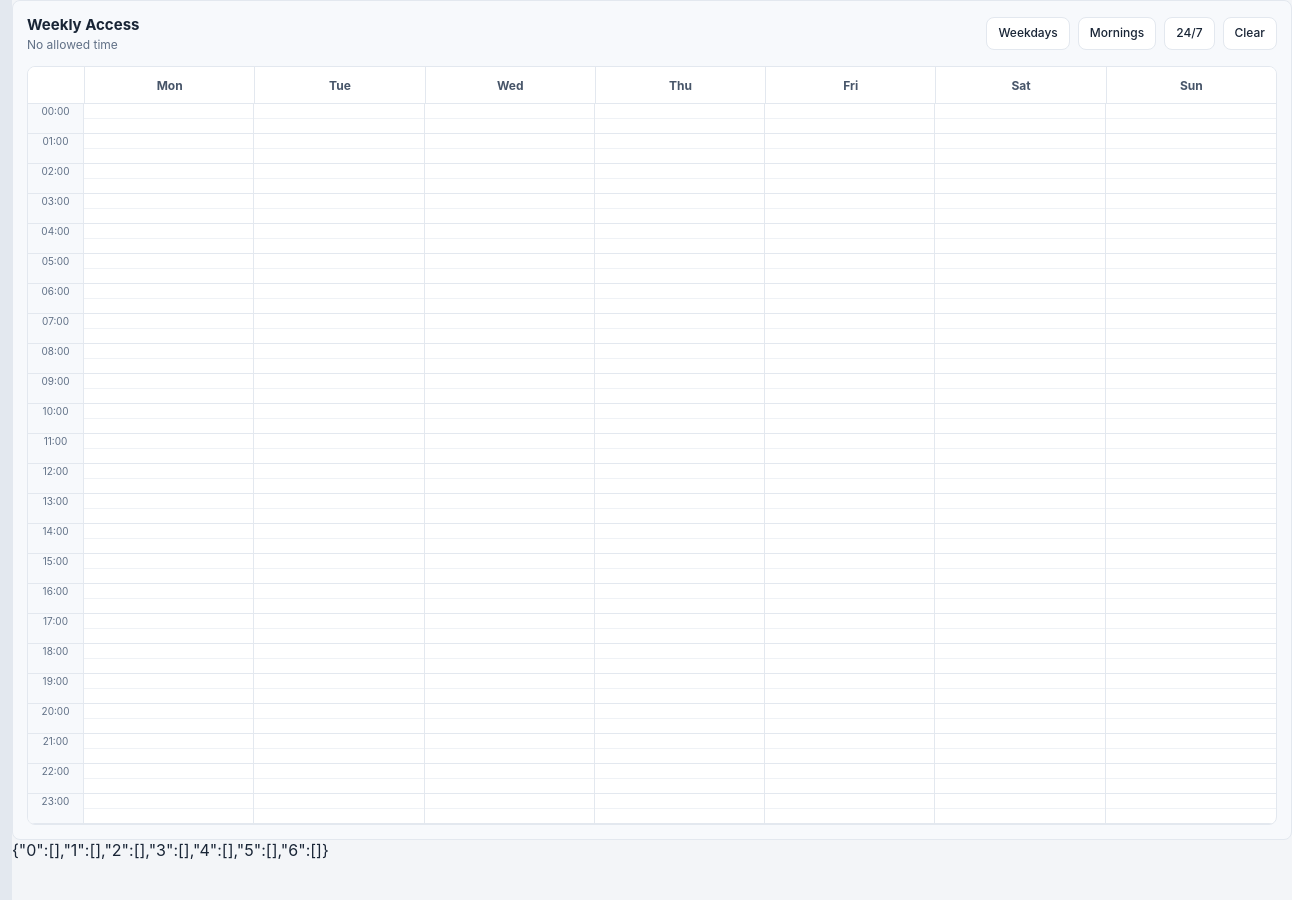
Test case: edits a real weekly selection through presets without changing other form ownership
What coordinates should you click on to do the following:
click the button "24/7"
I would click on:
 (1189, 34)
Its box is [1164,17,1215,50].
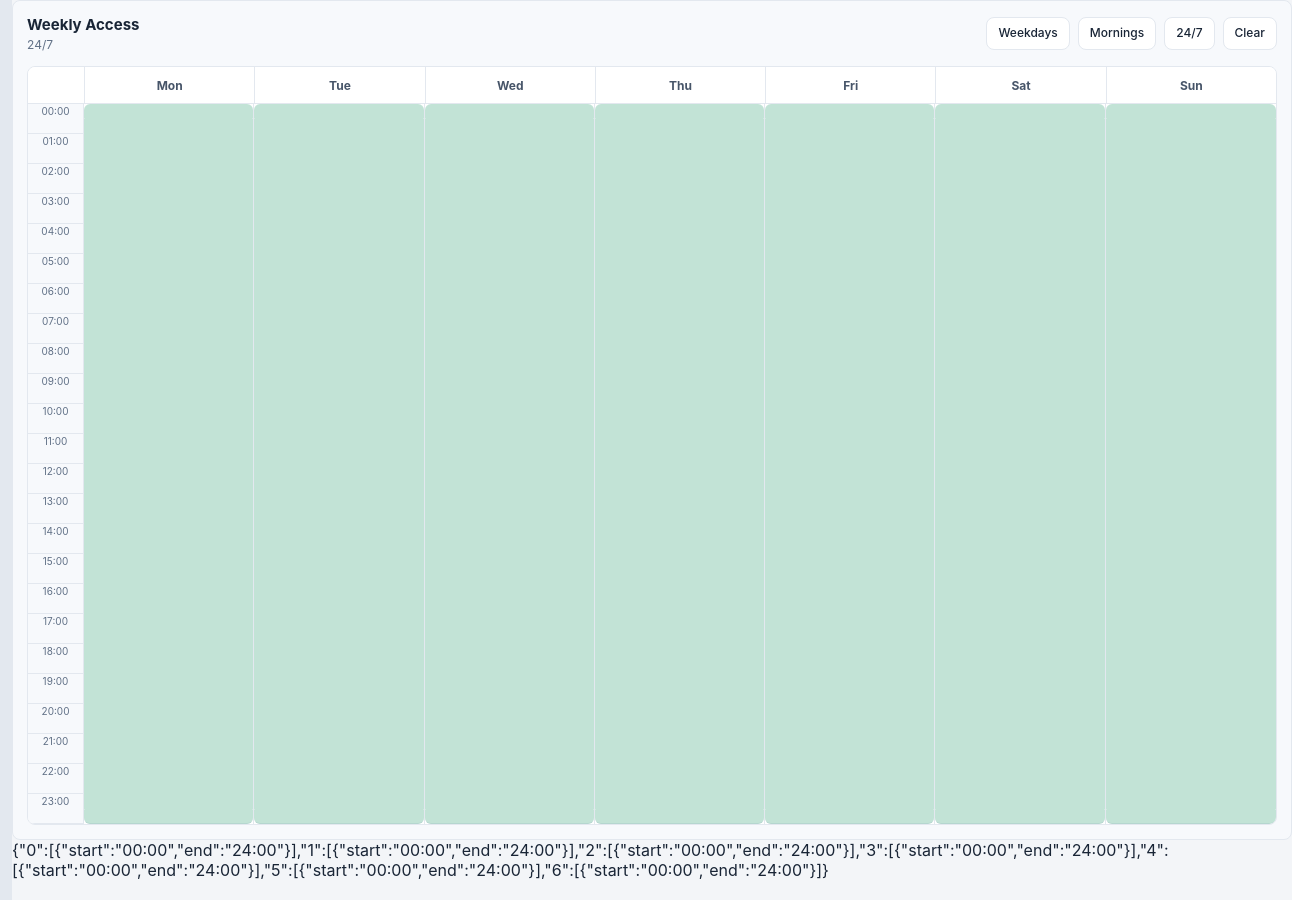
Check: the button named "Sunday 23:30-24:00 allowed" is shown, box [1106,809,1276,824]
What coordinates should you click on to do the following:
click the button "Clear"
I would click on:
 (1250, 34)
Its box is [1222,17,1277,50].
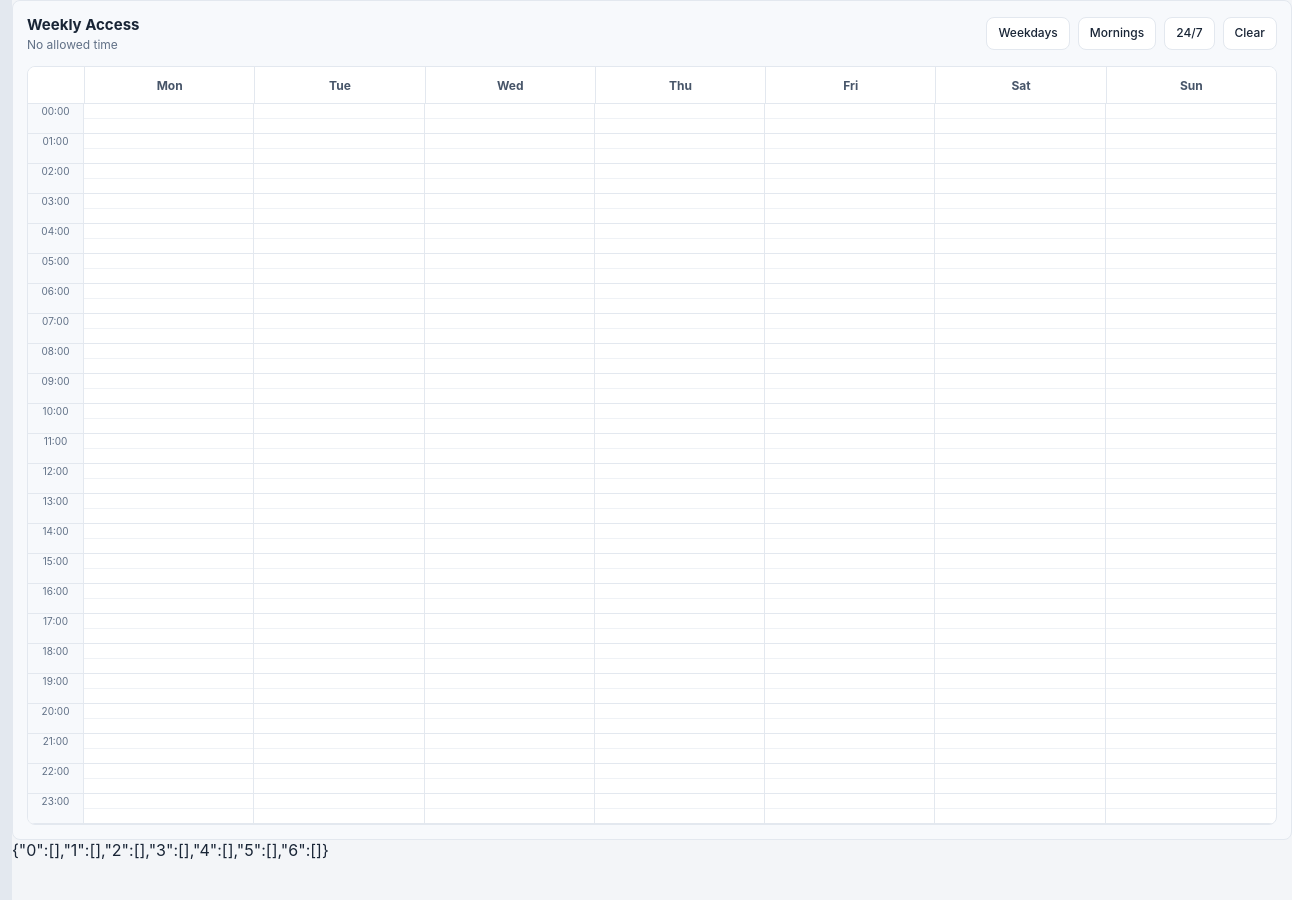
What coordinates should you click on to do the following:
click the button "Weekdays"
I would click on:
 (1028, 34)
Its box is [986,17,1070,50].
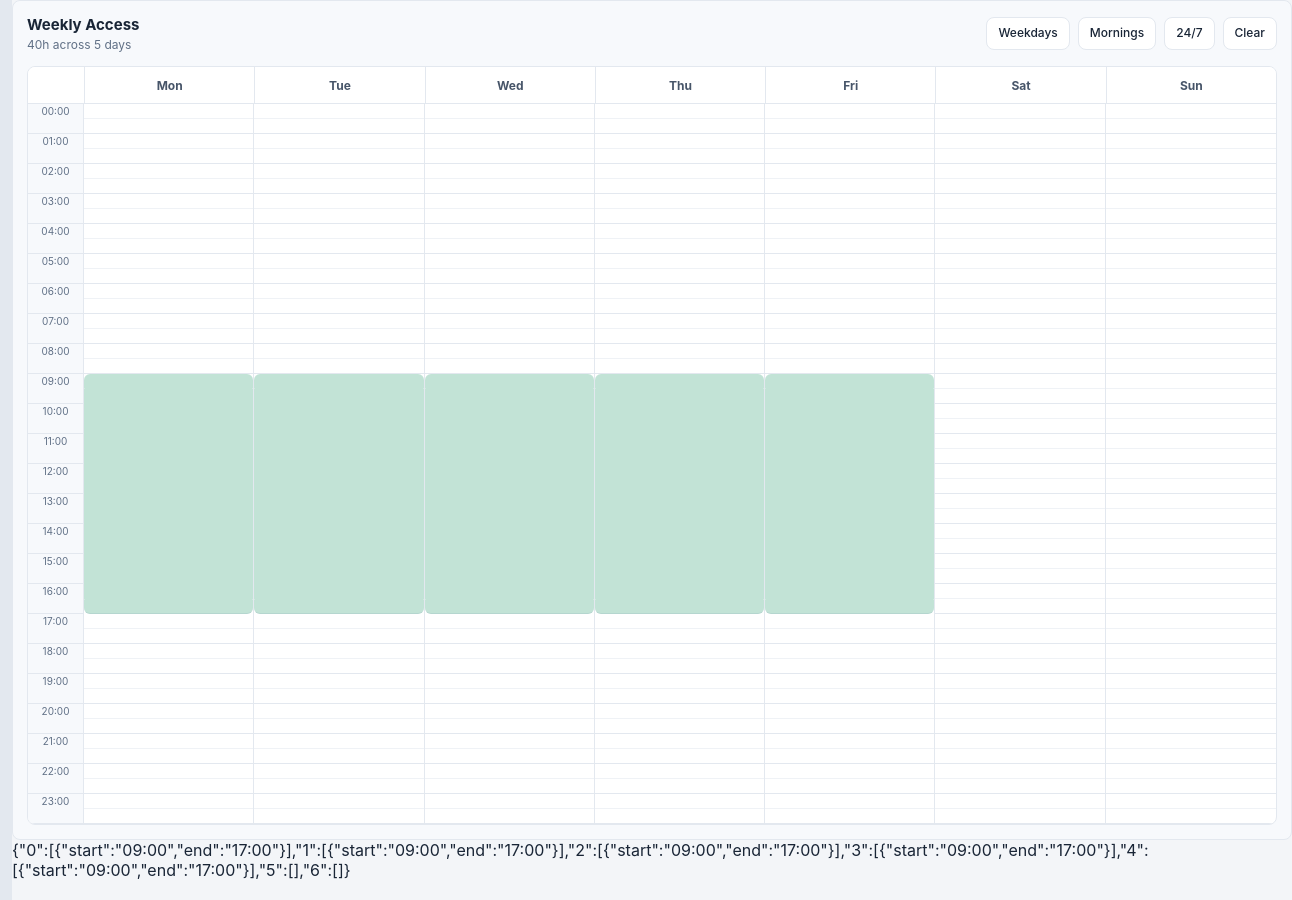
Check: the button named "Monday 09:00-09:30 allowed" is shown, box [84,374,253,389]
